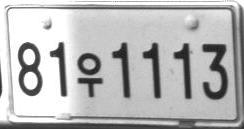1: (140, 41, 168, 99), (109, 41, 137, 98), (47, 41, 74, 97), (171, 42, 197, 99)
3: (201, 43, 229, 100)
8: (16, 41, 43, 96)
우: (77, 52, 103, 97)
